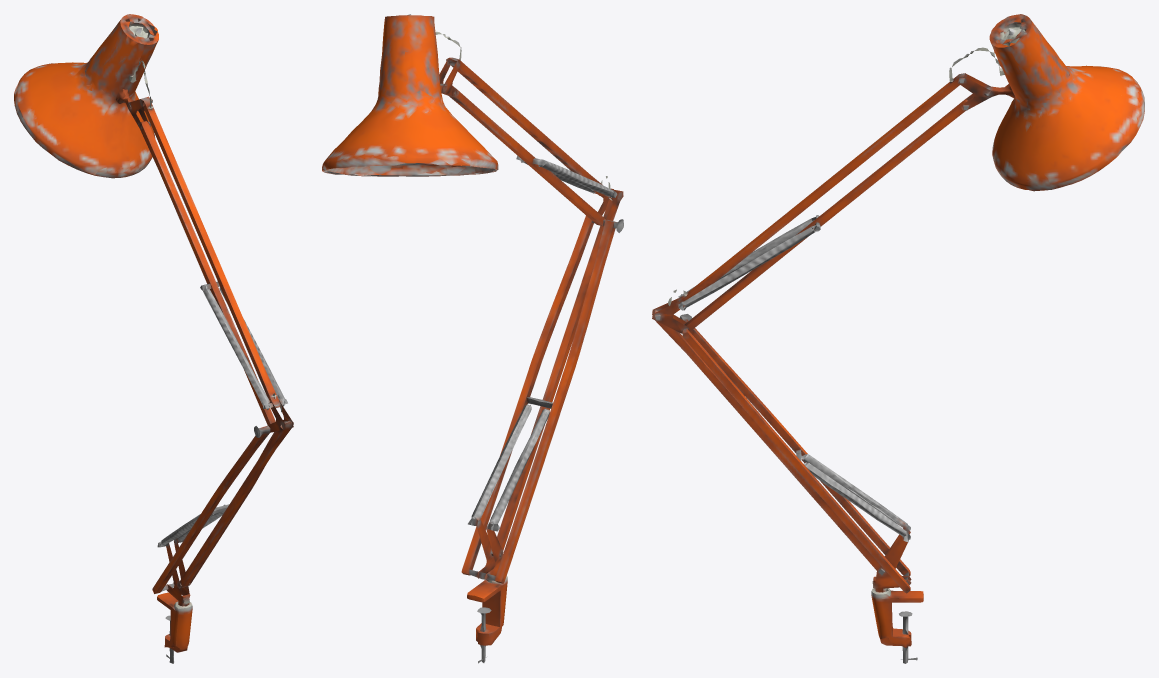
The model's file is desk_lamp.glb.
3 views of the same model, side by side, from view 1: azimuth 30°, elevation 25°; view 2: azimuth 150°, elevation 25°; view 3: azimuth 270°, elevation 25° (orthographic). The views are drawn at different scales.
Visible parts, largest first — view 1: mesh; view 2: mesh; view 3: mesh.
Boxes of the visible parts, x1,y1,x2,y2 form: mesh: (14,14,293,663); mesh: (322,14,623,663); mesh: (652,14,1144,663).
Bounding box in the file's own units: 0.197 × 0.879 × 0.6034.
Materials: 1 (1 with a texture image).
